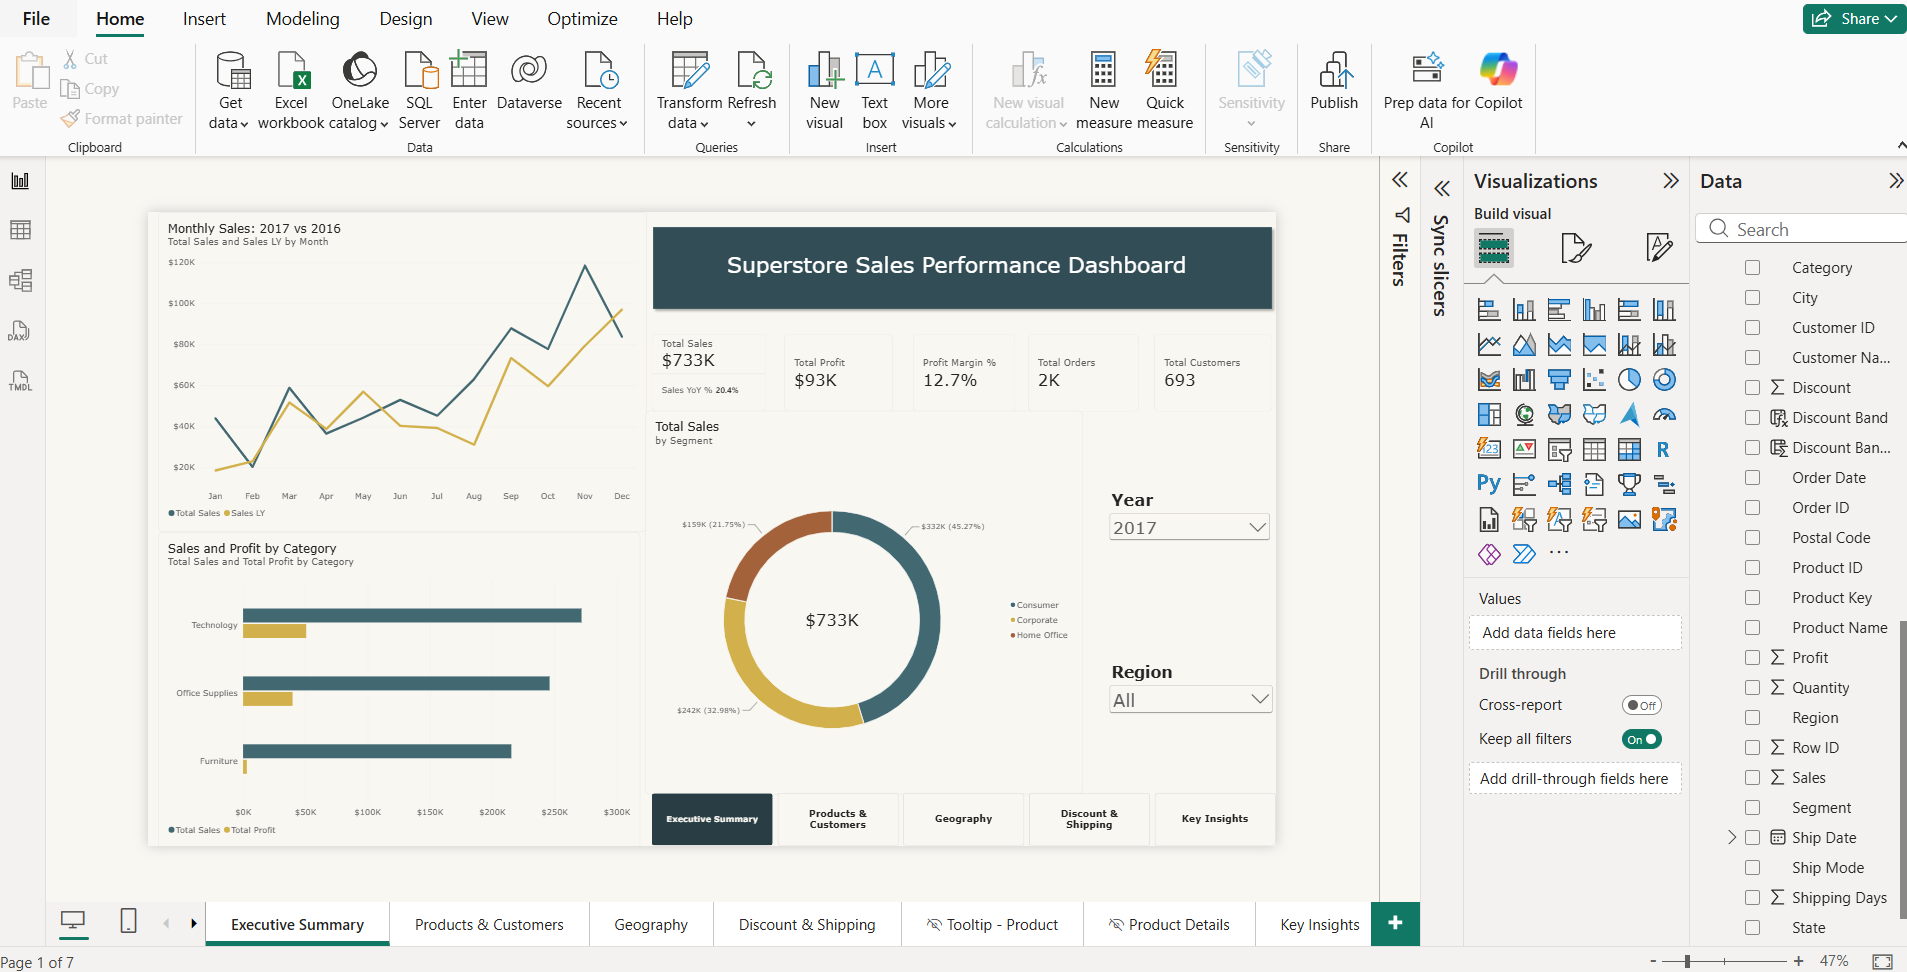

Layout of this report page (visuals, bound fields, positions):
{"tool":"powerbi","page":{"name":"Executive Summary","canvas":[1920,1080],"ordinal":0},"visuals":[{"type":"shape","box":[850,17.5,1070.6,156.5],"z":0},{"type":"cardVisual","fields":{"Data":["_Measures.Total Profit"]},"box":[1082.5,207.5,185.6,131],"z":0},{"type":"cardVisual","fields":{"Data":["_Measures.Total Sales"]},"box":[857.5,207.5,195.7,131],"z":1},{"type":"cardVisual","fields":{"Data":["_Measures.Profit Margin %"]},"box":[1302.5,207.5,175,131],"z":2},{"type":"lineChart","title":"Monthly Sales: 2017 vs 2016","fields":{"Category":["DateTable.Month"],"Y":["_Measures.Total Sales","_Measures.Sales LY"]},"box":[16,0,832,544],"z":3},{"type":"cardVisual","fields":{"Data":["_Measures.Total Customers"]},"box":[1712.5,207.5,201.7,131],"z":4},{"type":"cardVisual","fields":{"Data":["_Measures.Total Orders"]},"box":[1497.5,207.5,189.6,131],"z":5},{"type":"clusteredBarChart","title":"Sales and Profit by Category","fields":{"Category":["Sales.Category"],"Y":["_Measures.Total Sales","_Measures.Total Profit"]},"box":[16,544,821,538.6],"z":6},{"type":"donutChart","fields":{"Category":["Sales.Segment"],"Y":["_Measures.Total Sales"]},"box":[847.5,337.5,745,652.5],"z":7},{"type":"slicer","fields":{"Values":["DateTable.Year"]},"box":[1632.5,472.5,282.5,150],"z":9},{"type":"slicer","fields":{"Values":["Sales.Region"]},"box":[1632.5,765,287.5,185],"z":10},{"type":"pageNavigator","box":[857.7,989.2,1062.3,89.7],"z":13},{"type":"textbox","box":[835,65,1085,105],"z":1000}]}

Visuals, with their boxes on the page's 1920x1080 design canvas (x1, y1, x2, y2). These are canvas units, not pixel positions in the 1907x972 screenshot, which may show the page scaled, cropped or inside an application window:
shape: left=850, top=18, right=1921, bottom=174
cardVisual - _Measures.Total Profit: left=1082, top=208, right=1268, bottom=338
cardVisual - _Measures.Total Sales: left=858, top=208, right=1053, bottom=338
cardVisual - _Measures.Profit Margin %: left=1302, top=208, right=1478, bottom=338
"Monthly Sales: 2017 vs 2016" lineChart: left=16, top=0, right=848, bottom=544
cardVisual - _Measures.Total Customers: left=1712, top=208, right=1914, bottom=338
cardVisual - _Measures.Total Orders: left=1498, top=208, right=1687, bottom=338
"Sales and Profit by Category" clusteredBarChart: left=16, top=544, right=837, bottom=1083
donutChart - Sales.Segment x _Measures.Total Sales: left=848, top=338, right=1592, bottom=990
slicer - DateTable.Year: left=1632, top=472, right=1915, bottom=622
slicer - Sales.Region: left=1632, top=765, right=1920, bottom=950
pageNavigator: left=858, top=989, right=1920, bottom=1079
textbox: left=835, top=65, right=1920, bottom=170
